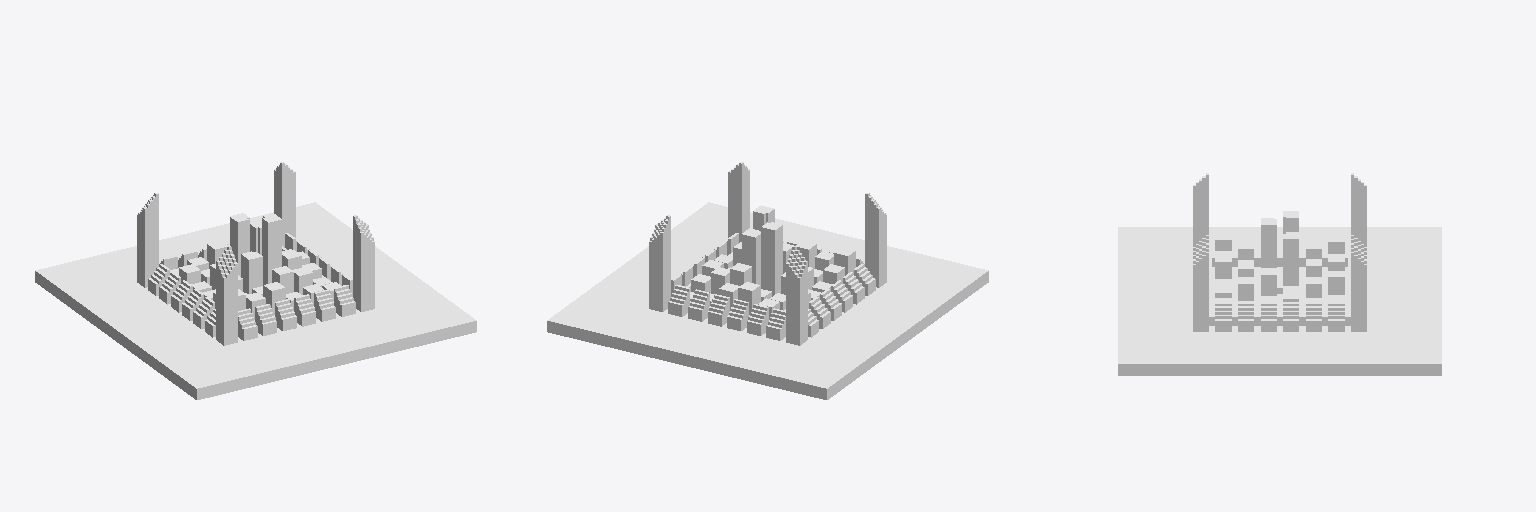
File: world2_vox_proto.obj
3 renders of one model, left to right at view 1: azimuth 30°, elevation 25°; view 2: azimuth 150°, elevation 25°; view 3: azimuth 270°, elevation 25°, orthographic.
Size of the model in its own units: 100 by 35 by 100.